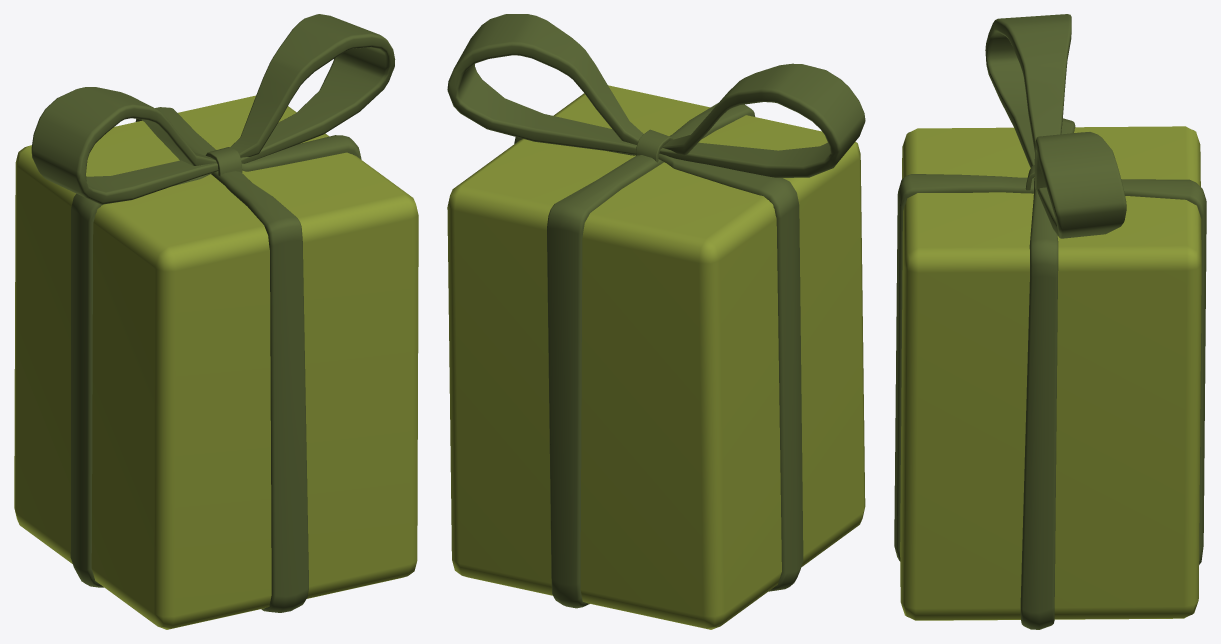
Rendered from Gift_Tall.fbx.
The picture shows the model from 3 angles, left to right: view 1: azimuth 30°, elevation 25°; view 2: azimuth 150°, elevation 25°; view 3: azimuth 270°, elevation 25°; orthographic projection. The views are drawn at different scales.
Visible parts, largest first — view 1: youleback07; view 2: youleback07; view 3: youleback07.
Boxes of the visible parts, x1,y1,x2,y2 form: youleback07: (14,14,418,629); youleback07: (447,14,865,629); youleback07: (894,14,1206,629).
Size of the model in its own units: 1.59 by 2.12 by 1.21.
